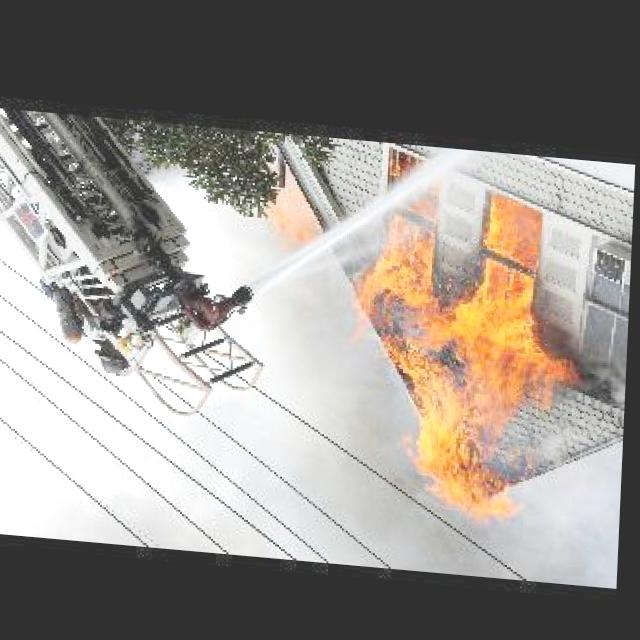Fire: (359, 178, 589, 526)
